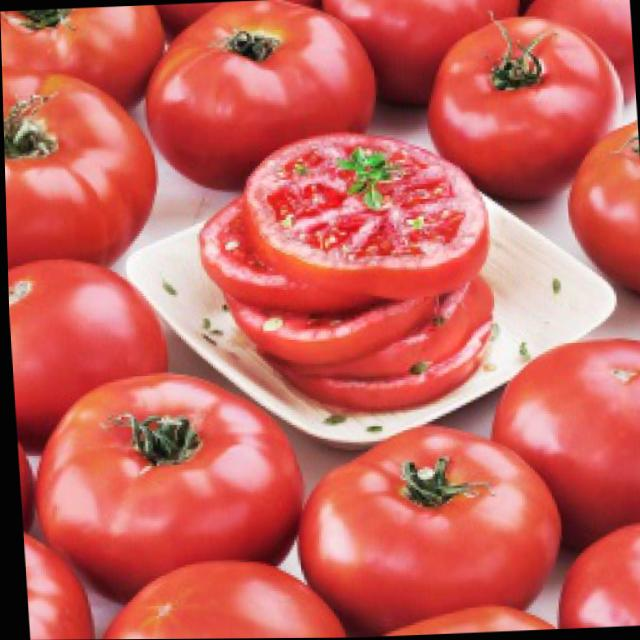tomato: (26, 377, 309, 611), (291, 423, 561, 637), (142, 0, 384, 195), (425, 16, 618, 196), (6, 254, 173, 453), (484, 337, 640, 540), (2, 72, 161, 271), (326, 0, 510, 112), (90, 557, 334, 640), (0, 4, 170, 113), (561, 121, 640, 301), (549, 522, 640, 627)
